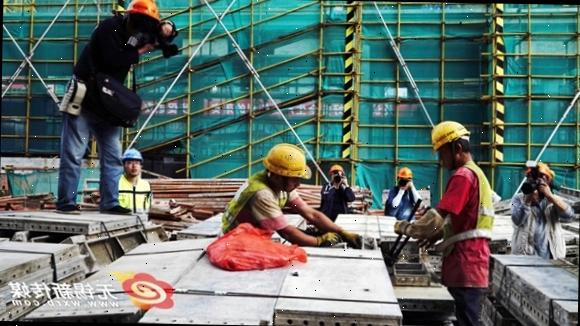helmet: (258, 144, 314, 180), (430, 118, 470, 156), (124, 0, 162, 23), (526, 162, 554, 182), (120, 148, 144, 166), (396, 166, 414, 184), (329, 164, 346, 176)
no_wear: (84, 26, 134, 89)
wear: (445, 168, 494, 262), (234, 181, 284, 236), (114, 176, 152, 211)
